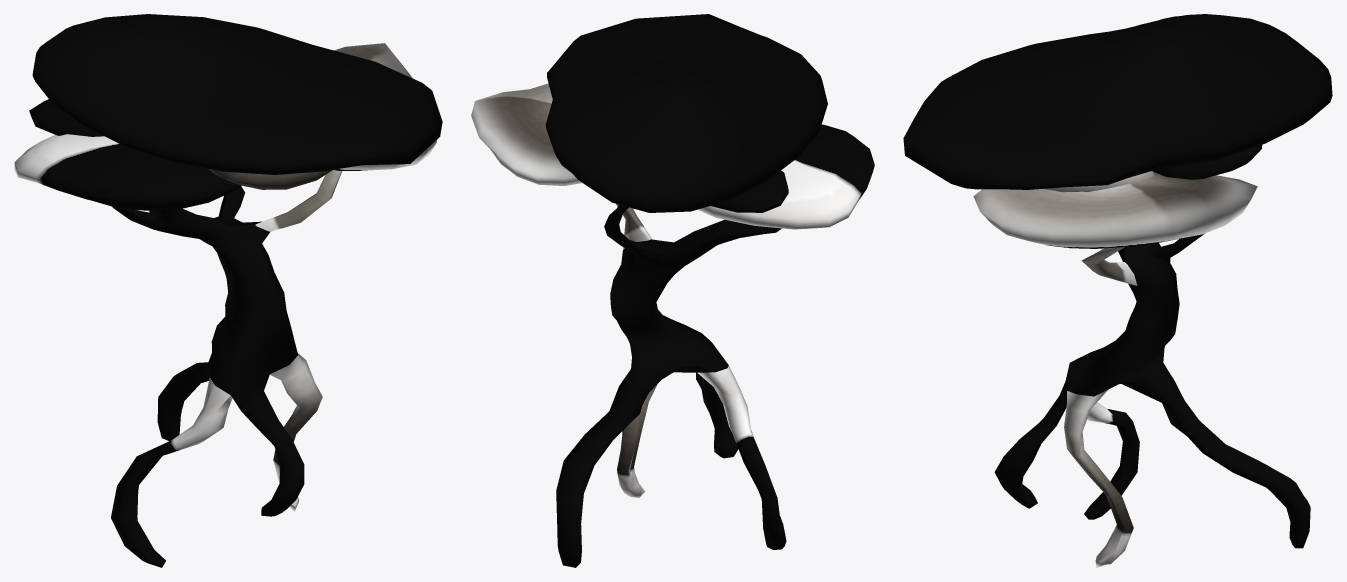
The model's file is SwirlTree3_Test.fbx.
3 renders of one model, left to right at view 1: azimuth 30°, elevation 25°; view 2: azimuth 150°, elevation 25°; view 3: azimuth 270°, elevation 25°, orthographic. The views are drawn at different scales.
Parts seen in each view (by area): view 1: Tree3; view 2: Tree3; view 3: Tree3.
Part boxes in pixels (bbox=[...]): Tree3: bbox=[14, 14, 442, 567]; Tree3: bbox=[471, 14, 874, 567]; Tree3: bbox=[903, 14, 1332, 567].
Bounding box in the file's own units: 1024 × 1282 × 964.
